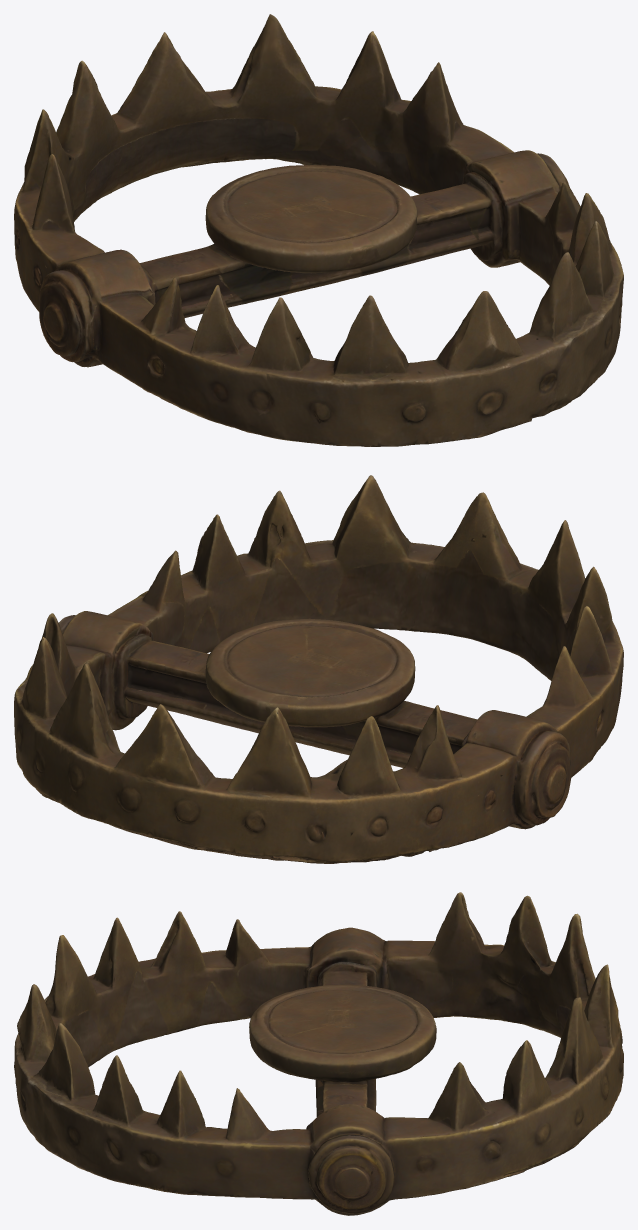
The model's file is Meshy_AI_Bear_Trap_0301181154_texture.glb.
3 views of the same model, one above another, from view 1: azimuth 30°, elevation 25°; view 2: azimuth 150°, elevation 25°; view 3: azimuth 270°, elevation 25° (orthographic). The views are drawn at different scales.
Visible parts, largest first — view 1: Mesh_0.002; view 2: Mesh_0.002; view 3: Mesh_0.002.
Boxes of the visible parts, <box> form: Mesh_0.002: <box>14,14,623,446</box>; Mesh_0.002: <box>14,475,623,863</box>; Mesh_0.002: <box>14,892,623,1215</box>.
Bounding box in the file's own units: 2.97 × 0.9997 × 3.47.
Materials: 1 (1 with a texture image).
